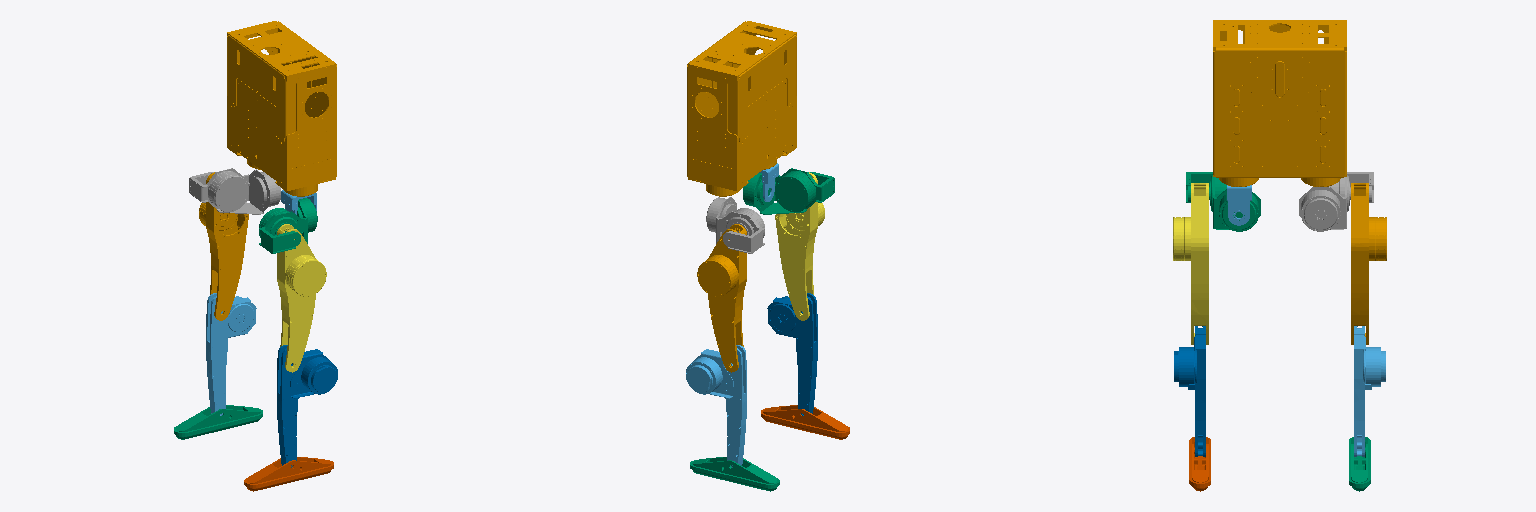
robot.urdf — mevita:
<?xml version='1.0' encoding='UTF-8'?>
<robot name="mevita">
  <link name="base_link">
    <inertial>
      <origin xyz="0.00928611721589756 0.0 -0.0205788256368033" rpy="0.0 -0.0 0.0"/>
      <mass value="8.0957985696312"/>
      <inertia ixx="0.0584397725418765" ixy="4.74882558774436e-06" ixz="-1.96711943278022e-05" iyy="0.037899893912788" iyz="-4.32258628183686e-05" izz="0.0334286196447418"/>
    </inertial>
    <visual>
      <geometry>
        <mesh filename="package://mevita/models/meshes/base_link.STL"/>
      </geometry>
      <origin xyz="0.0 0.0 0.0" rpy="0.0 -0.0 0.0"/>
    </visual>
    <collision>
      <geometry>
        <box size="0.152 0.300 0.320"/>
      </geometry>
      <material name="material"/>
      <origin xyz="0.0 0.0 0.0" rpy="0.0 -0.0 0.0"/>
    </collision>
  </link>
  <link name="R_hip1_link">
    <inertial>
      <origin xyz="-0.0116280032776967 2.24198653703128e-05 -0.0324188147397766" rpy="0.0 -0.0 0.0"/>
      <mass value="0.195651670203217"/>
      <inertia ixx="0.000127906547739082" ixy="-5.05375803664571e-10" ixz="2.90853360412574e-05" iyy="0.000168931407464894" iyz="-3.16933358392427e-10" izz="0.000103638809145105"/>
    </inertial>
    <visual>
      <geometry>
        <mesh filename="package://mevita/models/meshes/R_hip1_link.STL"/>
      </geometry>
      <origin xyz="0.0 0.0 0.0" rpy="0.0 -0.0 0.0"/>
    </visual>
  </link>
  <link name="R_hip2_link">
    <inertial>
      <origin xyz="-0.0848241977996927 -0.0330786304511408 -0.00239927683418034" rpy="0.0 -0.0 0.0"/>
      <mass value="2.06272582516224"/>
      <inertia ixx="0.00194208302225348" ixy="-0.000317634798503137" ixz="8.79932071664311e-05" iyy="0.00258512565408255" iyz="3.91813637448243e-05" izz="0.00223873838261095"/>
    </inertial>
    <visual>
      <geometry>
        <mesh filename="package://mevita/models/meshes/R_hip2_link.STL"/>
      </geometry>
      <origin xyz="0.0 0.0 0.0" rpy="0.0 -0.0 0.0"/>
    </visual>
    <collision>
      <geometry>
        <cylinder radius="0.042" length="0.05"/>
      </geometry>
      <material name="material"/>
      <origin xyz="-0.025 0.0 0.0" rpy="0 1.57 0" />
    </collision>
    <collision>
      <geometry>
        <cylinder radius="0.045" length="0.04"/>
      </geometry>
      <material name="material"/>
      <origin xyz="-0.112 -0.040 0.0" rpy="0 1.57 1.57" />
    </collision>
    <collision>
      <geometry>
        <box size="0.010 0.058 0.0442"/>
      </geometry>
      <material name="material"/>
      <origin xyz="-0.17355 -0.090 0.0" rpy="0.0 0.0 0.0"/>
    </collision>
  </link>
  <link name="R_thigh_link">
    <inertial>
      <origin xyz="0.0217259220360281 -0.0386181639861446 -0.127457750108459" rpy="0.0 -0.0 0.0"/>
      <mass value="2.0269546279437"/>
      <inertia ixx="0.00986835841885388" ixy="-6.47139447506295e-07" ixz="0.000101369974101054" iyy="0.0109863901998615" iyz="-4.95748858000217e-06" izz="0.00152601861254659"/>
    </inertial>
    <visual>
      <geometry>
        <mesh filename="package://mevita/models/meshes/R_thigh_link.STL"/>
      </geometry>
      <origin xyz="0.0 0.0 0.0" rpy="0.0 -0.0 0.0"/>
    </visual>
    <collision>
      <geometry>
        <cylinder radius="0.02" length="0.30"/>
      </geometry>
      <material name="material"/>
      <origin xyz="0 -0.02 -0.125" rpy="0 0 0" />
    </collision>
    <collision>
      <geometry>
        <cylinder radius="0.0485" length="0.04"/>
      </geometry>
      <material name="material"/>
      <origin xyz="0.0255 -0.060 -0.100" rpy="0 1.57 1.57" />
    </collision>
  </link>
  <link name="R_calf_link">
    <inertial>
      <origin xyz="0.038867142816782 -0.0275443103240817 -0.0744040654595665" rpy="0.0 -0.0 0.0"/>
      <mass value="1.32255100769777"/>
      <inertia ixx="0.00518314311782858" ixy="2.1831048607277e-06" ixz="-0.0001751918500235" iyy="0.00558007158640056" iyz="-2.68494203987264e-05" izz="0.000622860993106399"/>
    </inertial>
    <visual>
      <geometry>
        <mesh filename="package://mevita/models/meshes/R_calf_link.STL"/>
      </geometry>
      <origin xyz="0.0 0.0 0.0" rpy="0.0 -0.0 0.0"/>
    </visual>
    <collision>
      <geometry>
        <cylinder radius="0.018" length="0.25"/>
      </geometry>
      <material name="material"/>
      <origin xyz="0 -0.013 -0.125" rpy="0 0 0" />
    </collision>
    <collision>
      <geometry>
        <cylinder radius="0.045" length="0.04"/>
      </geometry>
      <material name="material"/>
      <origin xyz="0.07135 -0.0425 -0.04182" rpy="0 1.57 1.57" />
    </collision>
  </link>
  <link name="R_foot_link">
    <inertial>
      <origin xyz="-0.000805699942805438 -0.0189471503813982 -0.0237547805244879" rpy="0 0 0" />
      <mass value="0.214661212420411" />
      <inertia ixx="4.02562164950406E-05" ixy="-1.0138237279121E-09" ixz="4.17012471797606E-06" iyy="0.000770002678918587" iyz="-1.83484988650801E-09" izz="0.000787274566684345"/>
    </inertial>
    <visual>
      <geometry>
        <mesh filename="package://mevita/models/meshes/R_foot_long_link.STL"/>
      </geometry>
      <origin xyz="0.0 0.0 0.0" rpy="0.0 -0.0 0.0"/>
    </visual>
    <collision>
      <geometry>
        <cylinder radius="0.01916" length="0.208"/>
      </geometry>
      <material name="material"/>
      <origin xyz="0.0000 -0.01850 -0.03141" rpy="0 1.57 0" />
    </collision>
  </link>
  <link name="L_hip1_link">
    <inertial>
      <origin xyz="-0.0116280032776967 2.24198653701602e-05 -0.0324188147397767" rpy="0.0 -0.0 0.0"/>
      <mass value="0.195651670203217"/>
      <inertia ixx="0.000127906547739082" ixy="-5.05375803669024e-10" ixz="2.90853360412574e-05" iyy="0.000168931407464894" iyz="-3.16933358393089e-10" izz="0.000103638809145105"/>
    </inertial>
    <visual>
      <geometry>
        <mesh filename="package://mevita/models/meshes/L_hip1_link.STL"/>
      </geometry>
      <origin xyz="0.0 0.0 0.0" rpy="0.0 -0.0 0.0"/>
    </visual>
  </link>
  <link name="L_hip2_link">
    <inertial>
      <origin xyz="-0.0848241850737188 0.0330439919867859 -0.0024319822187876" rpy="0.0 -0.0 0.0"/>
      <mass value="2.06272582516213"/>
      <inertia ixx="0.00194208302225347" ixy="0.000315940351024014" ixz="9.00839822768814e-05" iyy="0.00258465285897819" iyz="-4.0642647695993e-05" izz="0.0022392111777153"/>
    </inertial>
    <visual>
      <geometry>
        <mesh filename="package://mevita/models/meshes/L_hip2_link.STL"/>
      </geometry>
      <origin xyz="0.0 0.0 0.0" rpy="0.0 -0.0 0.0"/>
    </visual>
    <collision>
      <geometry>
        <cylinder radius="0.042" length="0.05"/>
      </geometry>
      <material name="material"/>
      <origin xyz="-0.025 0.0 0.0" rpy="0 1.57 0" />
    </collision>
    <collision>
      <geometry>
        <cylinder radius="0.045" length="0.04"/>
      </geometry>
      <material name="material"/>
      <origin xyz="-0.112 0.040 0.0" rpy="0 1.57 1.57" />
    </collision>
    <collision>
      <geometry>
        <box size="0.010 0.058 0.0442"/>
      </geometry>
      <material name="material"/>
      <origin xyz="-0.17355 0.090 0.0" rpy="0.0 0.0 0.0"/>
    </collision>
  </link>
  <link name="L_thigh_link">
    <inertial>
      <origin xyz="0.0217096596297535 0.0386181642359396 -0.127429584203769" rpy="0.0 -0.0 0.0"/>
      <mass value="2.02695465095457"/>
      <inertia ixx="0.00986996283199353" ixy="5.53368417329674e-07" ixz="0.000100443675425187" iyy="0.0109863902075503" iyz="5.11991735957987e-06" izz="0.00152441421831652"/>
    </inertial>
    <visual>
      <geometry>
        <mesh filename="package://mevita/models/meshes/L_thigh_link.STL"/>
      </geometry>
      <origin xyz="0.0 0.0 0.0" rpy="0.0 -0.0 0.0"/>
    </visual>
    <collision>
      <geometry>
        <cylinder radius="0.02" length="0.30"/>
      </geometry>
      <material name="material"/>
      <origin xyz="0 0.02 -0.125" rpy="0 0 0" />
    </collision>
    <collision>
      <geometry>
        <cylinder radius="0.0485" length="0.04"/>
      </geometry>
      <material name="material"/>
      <origin xyz="0.0255 0.060 -0.100" rpy="0 1.57 1.57" />
    </collision>
  </link>
  <link name="L_calf_link">
    <inertial>
      <origin xyz="0.0388984172246086 0.0275443101753798 -0.0743540005306829" rpy="0.0 -0.0 0.0"/>
      <mass value="1.32255100135935"/>
      <inertia ixx="0.00518468533556645" ixy="-3.09018215107561e-06" ixz="-0.000174440375778983" iyy="0.00558007179509112" iyz="2.5398500779775e-05" izz="0.000621318983991005"/>
    </inertial>
    <visual>
      <geometry>
        <mesh filename="package://mevita/models/meshes/L_calf_link.STL"/>
      </geometry>
      <origin xyz="0.0 0.0 0.0" rpy="0.0 -0.0 0.0"/>
    </visual>
    <collision>
      <geometry>
        <cylinder radius="0.018" length="0.25"/>
      </geometry>
      <material name="material"/>
      <origin xyz="0 0.013 -0.125" rpy="0 0 0" />
    </collision>
    <collision>
      <geometry>
        <cylinder radius="0.045" length="0.04"/>
      </geometry>
      <material name="material"/>
      <origin xyz="0.07135 0.0425 -0.04182" rpy="0 1.57 1.57" />
    </collision>
  </link>
  <link name="L_foot_link">
    <inertial>
      <origin xyz="-0.000805699942805438 0.0189471503813982 -0.0237547805244879" rpy="0 0 0" />
      <mass value="0.214661212420411" />
      <inertia ixx="4.02562164950406E-05" ixy="-1.0138237279121E-09" ixz="4.17012471797606E-06" iyy="0.000770002678918587" iyz="-1.83484988650801E-09" izz="0.000787274566684345"/>
    </inertial>
    <visual>
      <geometry>
        <mesh filename="package://mevita/models/meshes/L_foot_long_link.STL"/>
      </geometry>
      <origin xyz="0.0 0.0 0.0" rpy="0.0 -0.0 0.0"/>
    </visual>
    <collision>
      <geometry>
        <cylinder radius="0.01916" length="0.208"/>
      </geometry>
      <material name="material"/>
      <origin xyz="0.0000 0.01850 -0.03141" rpy="0 1.57 0" />
    </collision>
  </link>
  <joint name="R_hip_y" type="revolute">
    <limit lower="-1.0472" upper="1.0472" effort="25" velocity="24"/>
    <parent link="base_link"/>
    <child link="R_hip1_link"/>
    <axis xyz=" 0.  0.  1."/>
    <origin xyz="0.0 -0.0909999999999956 -0.19905000000001" rpy="0.0 -0.0 0.0"/>
  </joint>
  <joint name="R_hip_r" type="revolute">
    <limit lower="-0.4538" upper="0.4538" effort="25" velocity="24"/>
    <parent link="R_hip1_link"/>
    <child link="R_hip2_link"/>
    <axis xyz=" 1.  0.  0."/>
    <origin xyz="0.02799999999999 0.0 -0.071" rpy="0.0 -0.0 0.0"/>
  </joint>
  <joint name="R_hip_p" type="revolute">
    <limit lower="-3.1416" upper="0.7330" effort="48" velocity="26"/>
    <parent link="R_hip2_link"/>
    <child link="R_thigh_link"/>
    <axis xyz=" 0.  1.  0."/>
    <origin xyz="-0.11155 -0.0665000000000001 0.0" rpy="0.0 -0.0 0.0"/>
  </joint>
  <joint name="R_knee_p" type="revolute">
    <limit lower="-0.3490" upper="2.7925" effort="48" velocity="26"/>
    <parent link="R_thigh_link"/>
    <child link="R_calf_link"/>
    <axis xyz=" 0.  1.  0."/>
    <origin xyz="0.0 -0.00699999999999998 -0.35" rpy="0.0 -0.0 0.0"/>
  </joint>
  <joint name="R_ankle_p" type="revolute">
    <limit lower="-1.2217" upper="1.0123" effort="25" velocity="24"/>
    <parent link="R_calf_link"/>
    <child link="R_foot_link"/>
    <axis xyz=" 0.  1.  0."/>
    <origin xyz="0.0 0.0055 -0.281416826531746" rpy="0.0 -0.0 0.0"/>
  </joint>
  <joint name="L_hip_y" type="revolute">
    <limit lower="-1.0472" upper="1.0472" effort="25" velocity="24"/>
    <parent link="base_link"/>
    <child link="L_hip1_link"/>
    <axis xyz=" 0.  0.  1."/>
    <origin xyz="0.0 0.091 -0.19905000000001" rpy="0.0 -0.0 0.0"/>
  </joint>
  <joint name="L_hip_r" type="revolute">
    <limit lower="-0.4538" upper="0.4538" effort="25" velocity="24"/>
    <parent link="L_hip1_link"/>
    <child link="L_hip2_link"/>
    <axis xyz=" 1.  0.  0."/>
    <origin xyz="0.02799999999999 0.0 -0.071" rpy="0.0 -0.0 0.0"/>
  </joint>
  <joint name="L_hip_p" type="revolute">
    <limit lower="-3.1416" upper="0.7330" effort="48" velocity="26"/>
    <parent link="L_hip2_link"/>
    <child link="L_thigh_link"/>
    <axis xyz="0. 1. 0."/>
    <origin xyz="-0.11155 0.0665000000000001 0.0" rpy="0.0 -0.0 0.0"/>
  </joint>
  <joint name="L_knee_p" type="revolute">
    <limit lower="-0.3490" upper="2.7925" effort="48" velocity="26"/>
    <parent link="L_thigh_link"/>
    <child link="L_calf_link"/>
    <axis xyz="0. 1. 0."/>
    <origin xyz="0.0 0.00699999999999998 -0.35" rpy="0.0 -0.0 0.0"/>
  </joint>
  <joint name="L_ankle_p" type="revolute">
    <limit lower="-1.2217" upper="1.0123" effort="25" velocity="24"/>
    <parent link="L_calf_link"/>
    <child link="L_foot_link"/>
    <axis xyz="0. 1. 0."/>
    <origin xyz="0.0 -0.0055 -0.281416826531746" rpy="0.0 -0.0 0.0"/>
  </joint>
  <material name="material">
    <color rgba="0.75294118 0.75294118 0.75294118 1.        "/>
  </material>
</robot>

--- What the picture shows (computed from the rendered views, not written in the file) ---
The picture shows the robot from 3 angles, left to right: view 1: azimuth 30°, elevation 25°; view 2: azimuth 150°, elevation 25°; view 3: azimuth 270°, elevation 25°; orthographic projection.
Robot: mevita — 11 links, 10 joints (10 revolute); root link base_link; default pose: every joint at zero.
Links seen in each view (by area): view 1: base_link, R_thigh_link, R_calf_link, L_thigh_link, L_hip2_link, L_calf_link, R_hip2_link, R_foot_link, L_foot_link; view 2: base_link, L_thigh_link, L_calf_link, R_thigh_link, R_calf_link, R_hip2_link, L_hip2_link, L_foot_link, R_foot_link; view 3: base_link, R_thigh_link, L_thigh_link, L_hip2_link, R_calf_link, L_calf_link, R_hip2_link, R_foot_link, L_foot_link, R_hip1_link.
Boxes of the visible links, x1,y1,x2,y2 form: base_link: (227, 21, 336, 196); R_thigh_link: (277, 224, 326, 372); R_calf_link: (277, 345, 337, 467); L_thigh_link: (199, 172, 248, 320); L_hip2_link: (189, 168, 280, 214); L_calf_link: (206, 293, 256, 415); R_hip2_link: (259, 198, 317, 253); R_foot_link: (244, 457, 333, 491); L_foot_link: (174, 405, 262, 439); base_link: (687, 21, 796, 196); L_thigh_link: (697, 224, 746, 372); L_calf_link: (686, 345, 746, 467); R_thigh_link: (775, 172, 824, 320); R_calf_link: (767, 293, 817, 415); R_hip2_link: (743, 168, 834, 214); L_hip2_link: (706, 197, 764, 253); L_foot_link: (690, 457, 779, 491); R_foot_link: (761, 405, 849, 439); base_link: (1213, 20, 1346, 186); R_thigh_link: (1173, 183, 1208, 344); L_thigh_link: (1351, 183, 1386, 344); L_hip2_link: (1299, 172, 1373, 231); R_calf_link: (1174, 326, 1205, 456); L_calf_link: (1354, 326, 1385, 456); R_hip2_link: (1186, 172, 1260, 231); R_foot_link: (1189, 437, 1210, 491); L_foot_link: (1349, 437, 1370, 491); R_hip1_link: (1227, 185, 1251, 225).
Size in the robot's own frame: 0.2851 by 0.4756 by 1.11 metres.
Meshes: 11 distinct files referenced, 10 mesh visuals loaded (10 binary STL); not drawn: 1 (reference not matched to a file when rendering).
